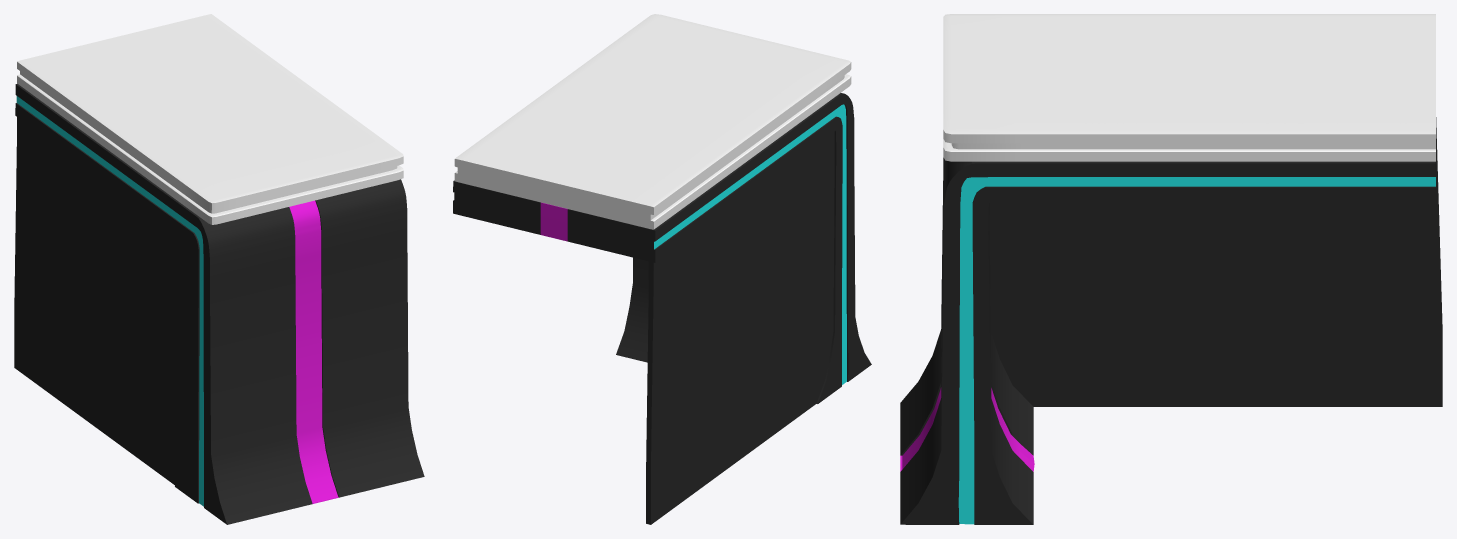
File: low poly bench 3.fbx
3 renders of one model, left to right at view 1: azimuth 30°, elevation 25°; view 2: azimuth 150°, elevation 25°; view 3: azimuth 270°, elevation 25°, orthographic. The views are drawn at different scales.
Parts seen in each view (by area): view 1: Box035; view 2: Box035; view 3: Box035.
Part boxes in pixels (bbox=[...]): Box035: bbox=[14, 14, 424, 524]; Box035: bbox=[453, 14, 871, 524]; Box035: bbox=[900, 14, 1442, 524].
Bounding box in the file's own units: 19.63 × 29.35 × 36.92.
